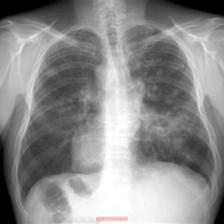tuberculosis: (7, 22, 219, 223)
